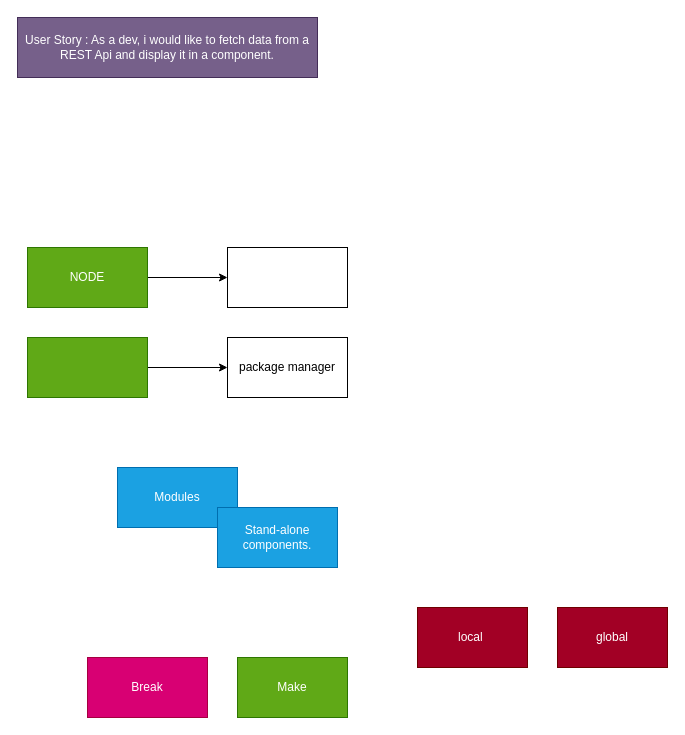
The diagram is 685 pixels wide and 735 high, and some of its shapes have lost their labels. The centre of each missing label's shape, as x and y in pixels:
"npm" goes at pixel 87 367.
"Runtime for Javascript appications" goes at pixel 287 277.
